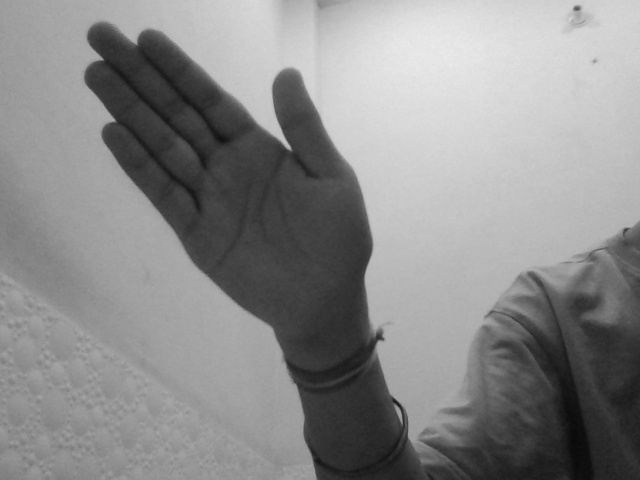Hello: (81, 19, 378, 342)
